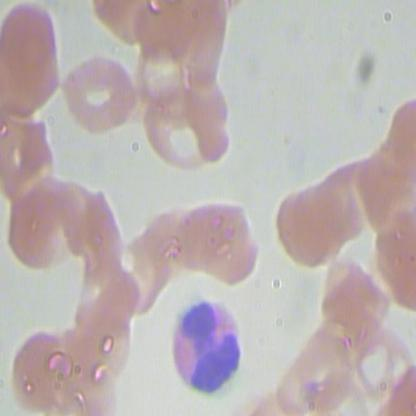RBC: (310, 253, 397, 348), (172, 193, 258, 289), (1, 177, 86, 272), (1, 1, 60, 122), (140, 86, 216, 174), (72, 254, 147, 342), (60, 55, 138, 136), (274, 179, 339, 270), (290, 326, 355, 415), (10, 325, 72, 412)
WBC: (167, 290, 247, 395)
